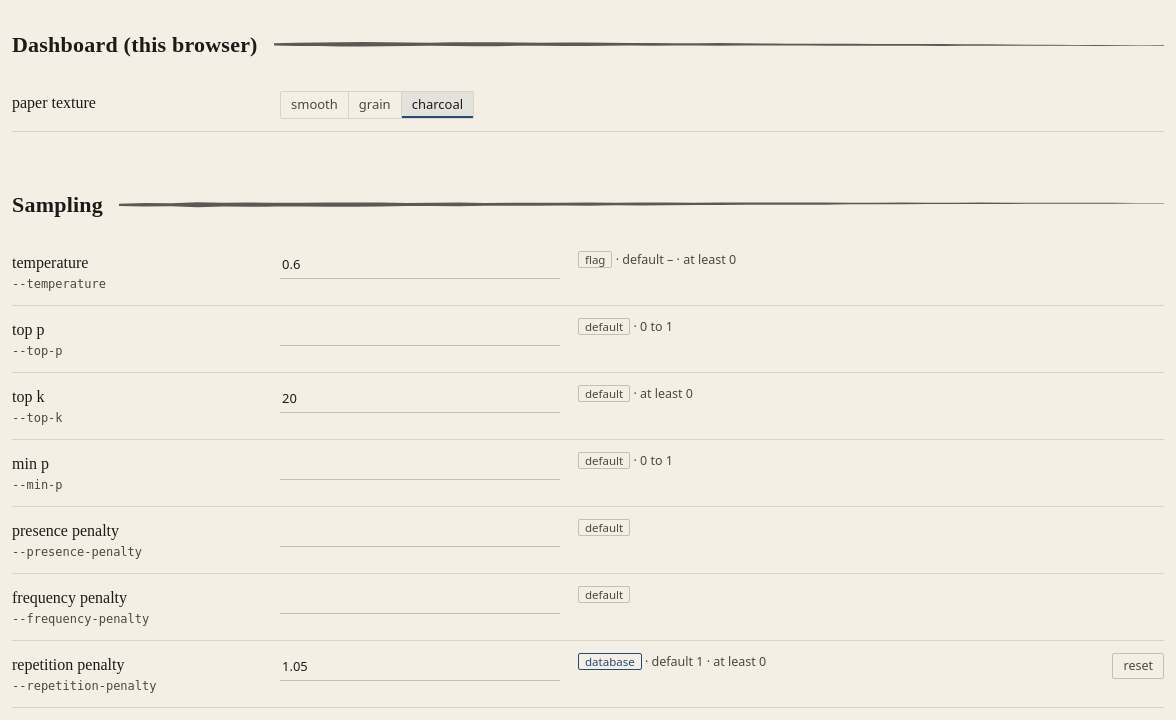
SettingsView over the HTTP backend › a change is a PATCH of {name: value} through the write guard; the answer replaces the row
Replace the text in the number field named "repetition penalty" with "1.1" at [420, 667], box [280,652,560,681]
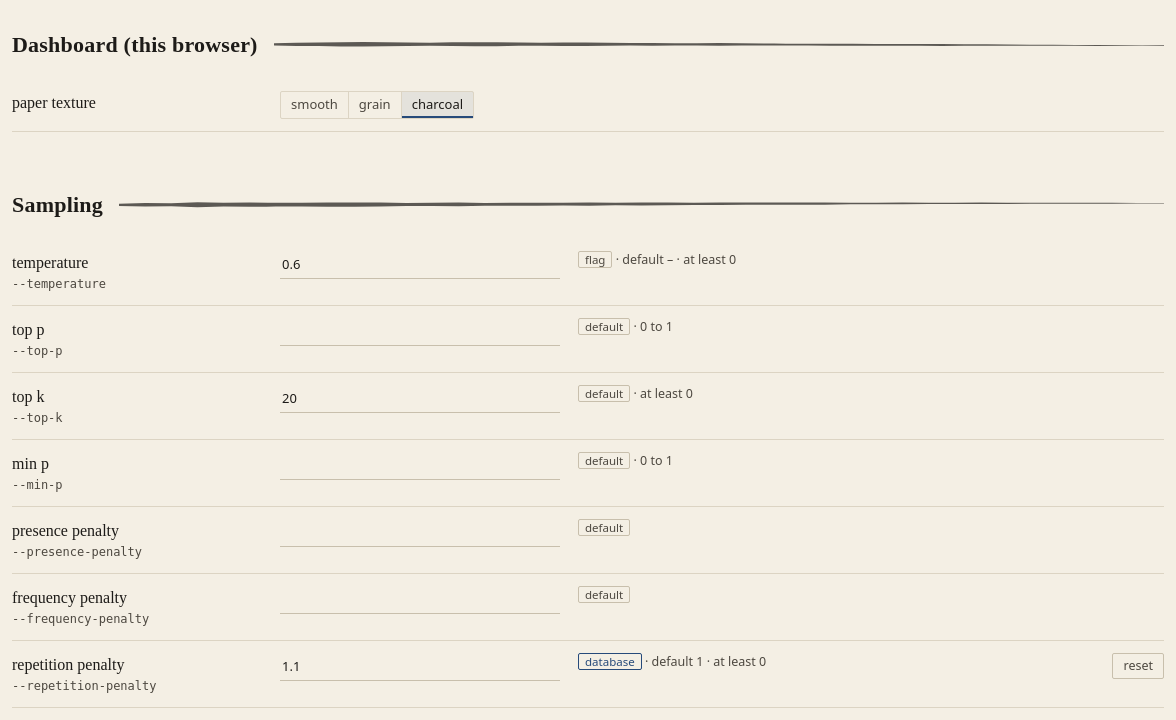
Press Enter in the number field named "repetition penalty", box [280,652,560,681]
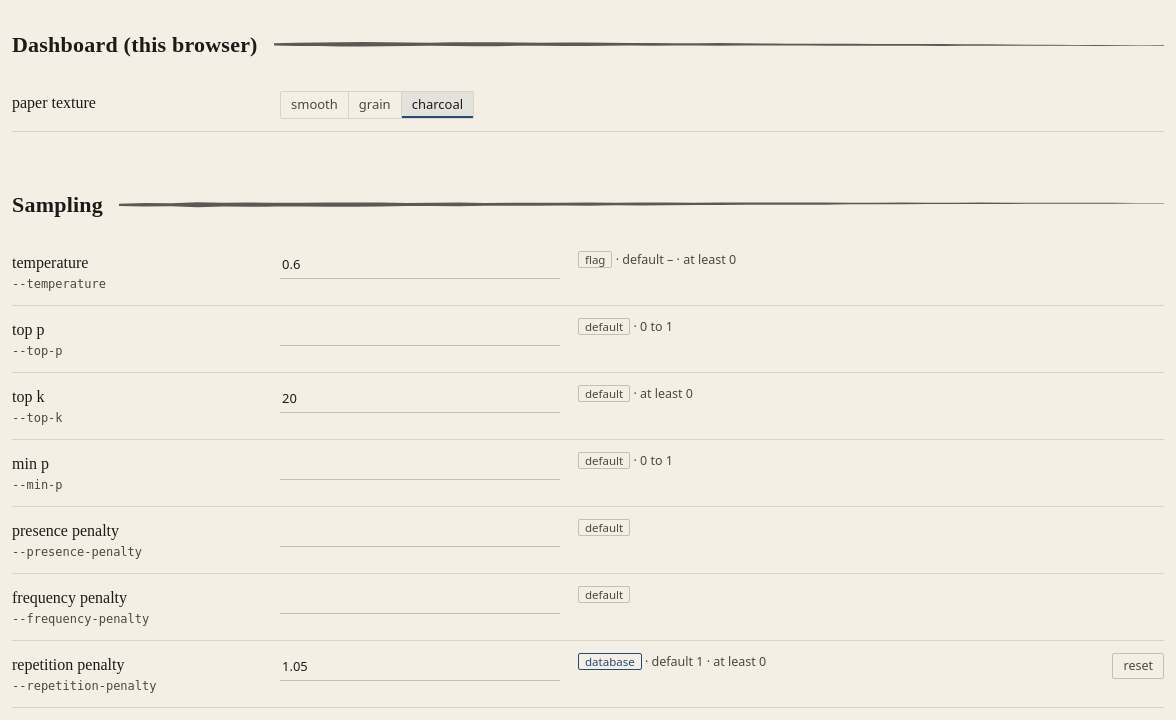
Now the number field named "repetition penalty" holds "1.05", box [280,652,560,681]
